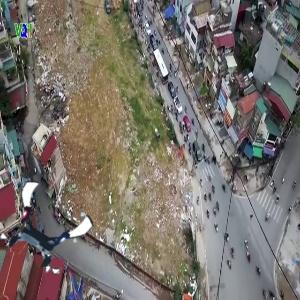drone: (3, 186, 86, 269)
